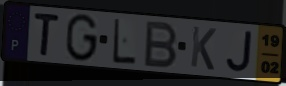B: (142, 20, 180, 70)
G: (64, 13, 100, 64)
J: (224, 30, 254, 74)
K: (189, 24, 219, 73)
L: (112, 17, 137, 66)
T: (32, 11, 62, 59)
